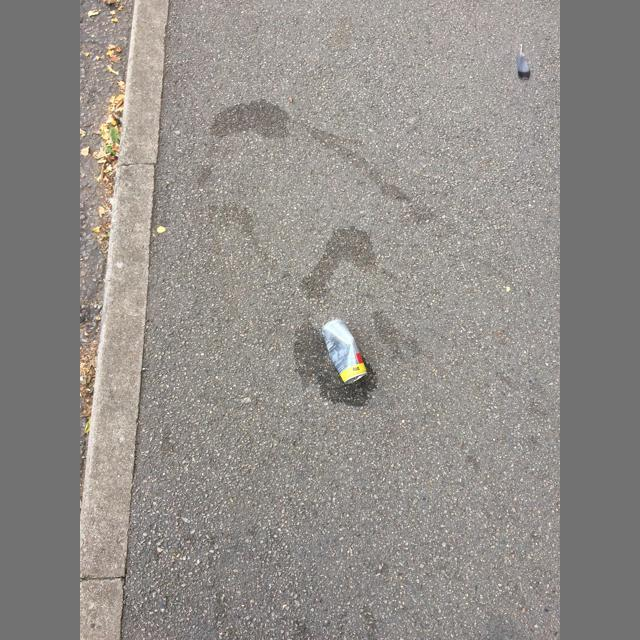litter: (322, 319, 367, 384), (351, 375, 359, 383)
